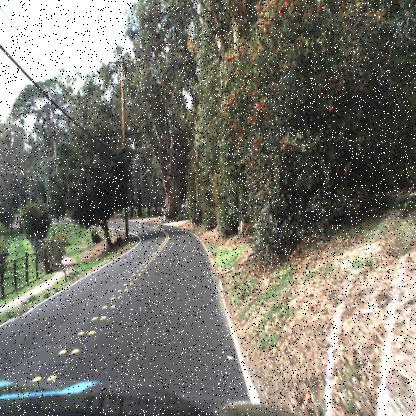car: (179, 195, 193, 219)
